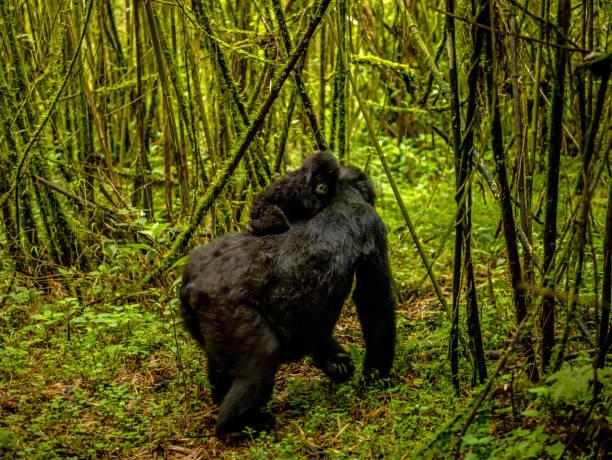goriile_montagne: (191, 158, 395, 420), (260, 159, 344, 220)
